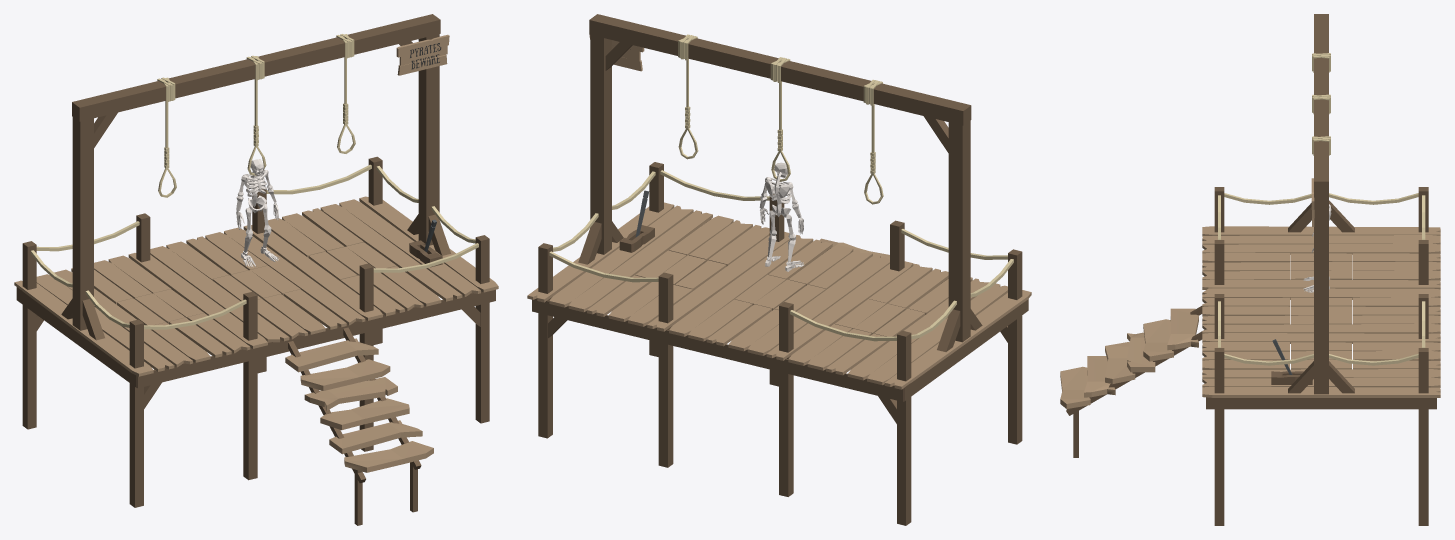
File: Gallows.fbx
3 renders of one model, left to right at view 1: azimuth 30°, elevation 25°; view 2: azimuth 150°, elevation 25°; view 3: azimuth 270°, elevation 25°, orthographic. The views are drawn at different scales.
Visible parts, largest first — view 1: Gallows, Skeleton_2, Hatch_1, Hatch_3, Hatch_2, Pyrates_Beware; view 2: Gallows, Skeleton_2, Hatch_1, Hatch_3, Hatch_2; view 3: Gallows, Hatch_1, Hatch_2, Hatch_3.
Part boxes in pixels (x1,y1,x2,y2): Gallows: (14,14,498,525); Skeleton_2: (236,159,279,267); Hatch_1: (117,289,203,325); Hatch_3: (308,242,396,280); Hatch_2: (212,265,300,301); Pyrates_Beware: (396,34,449,75); Gallows: (527,14,1031,525); Skeleton_2: (759,162,804,271); Hatch_1: (835,299,925,336); Hatch_3: (635,250,726,290); Hatch_2: (735,274,825,311); Gallows: (1060,14,1440,525); Hatch_1: (1290,253,1352,279); Hatch_2: (1291,297,1351,324); Hatch_3: (1291,342,1351,369).
Size of the model in its own units: 591 by 556 by 553.
1 material, 1 textured.
